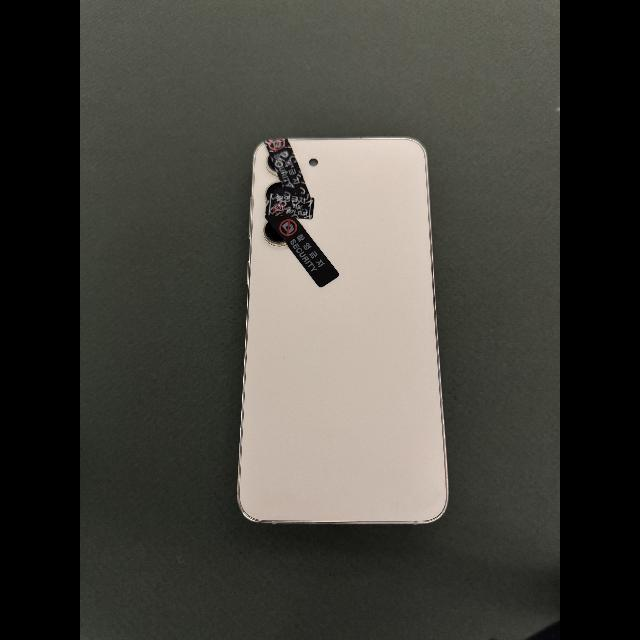lens: (266, 182, 286, 204), (265, 222, 284, 245), (268, 155, 279, 176)
phone: (238, 135, 448, 524)
sticker: (265, 215, 339, 287), (265, 138, 310, 197), (266, 194, 314, 221)
